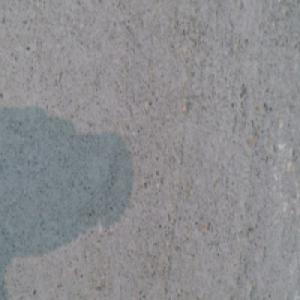Washer: (98, 286, 119, 300)
